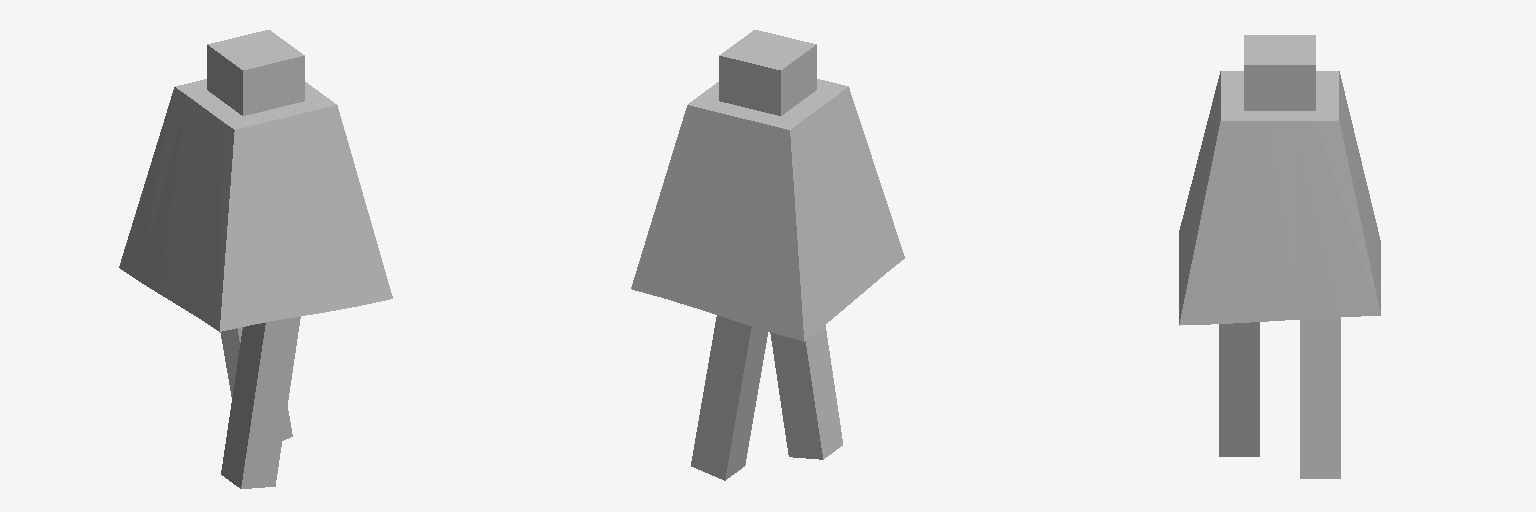
The model's file is essai_000027.obj.
3 renders of one model, left to right at view 1: azimuth 30°, elevation 25°; view 2: azimuth 150°, elevation 25°; view 3: azimuth 270°, elevation 25°, orthographic.
Visible parts, largest first — view 1: Cube; view 2: Cube; view 3: Cube.
Part boxes in pixels (left/top/right/bottom): Cube: left=119, top=30, right=392, bottom=488; Cube: left=631, top=30, right=904, bottom=480; Cube: left=1179, top=35, right=1380, bottom=478.
Bounding box in the file's own units: 1.99 × 4.51 × 2.